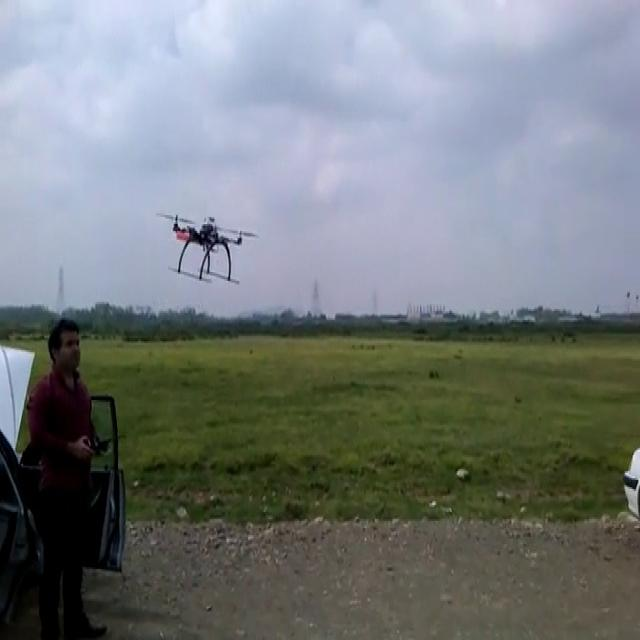drone: (156, 210, 262, 284)
